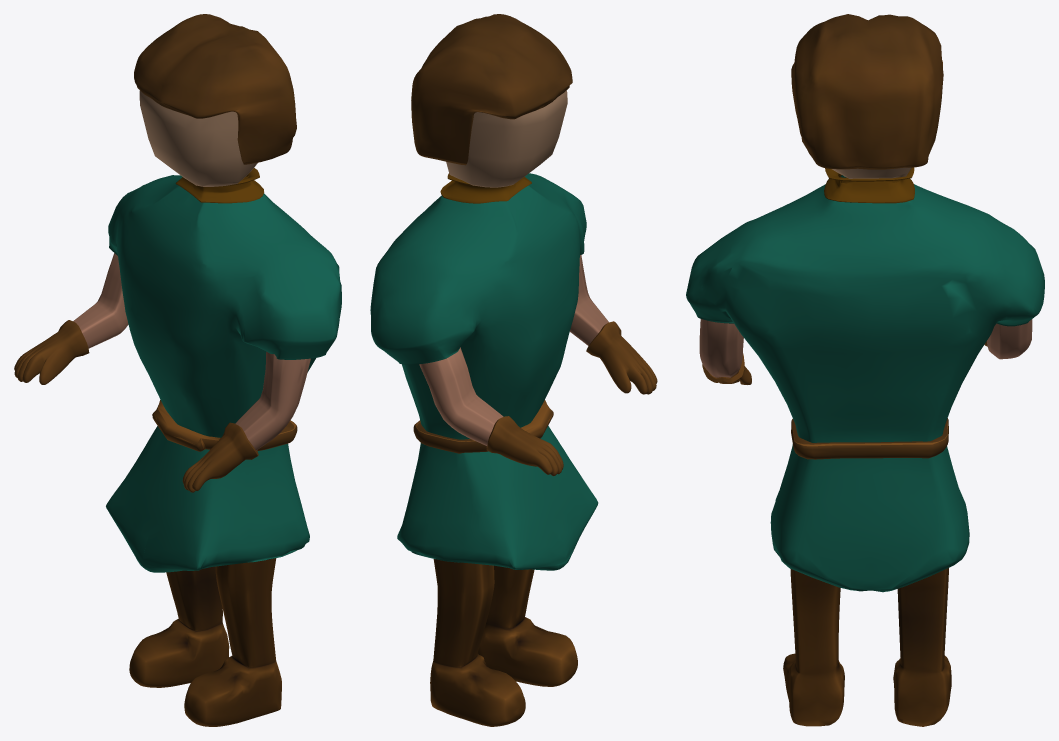
The model's file is Charactersp.fbx.
3 views of the same model, side by side, from view 1: azimuth 30°, elevation 25°; view 2: azimuth 150°, elevation 25°; view 3: azimuth 270°, elevation 25° (orthographic). The views are drawn at different scales.
Visible parts, largest first — view 1: Cube.005; view 2: Cube.005; view 3: Cube.005.
Part boxes in pixels (box(x1,y1,x2,y2)): Cube.005: box(14, 14, 341, 726); Cube.005: box(370, 14, 657, 726); Cube.005: box(686, 14, 1044, 726).
Bounding box in the file's own units: 3.32 × 10.09 × 4.73.
